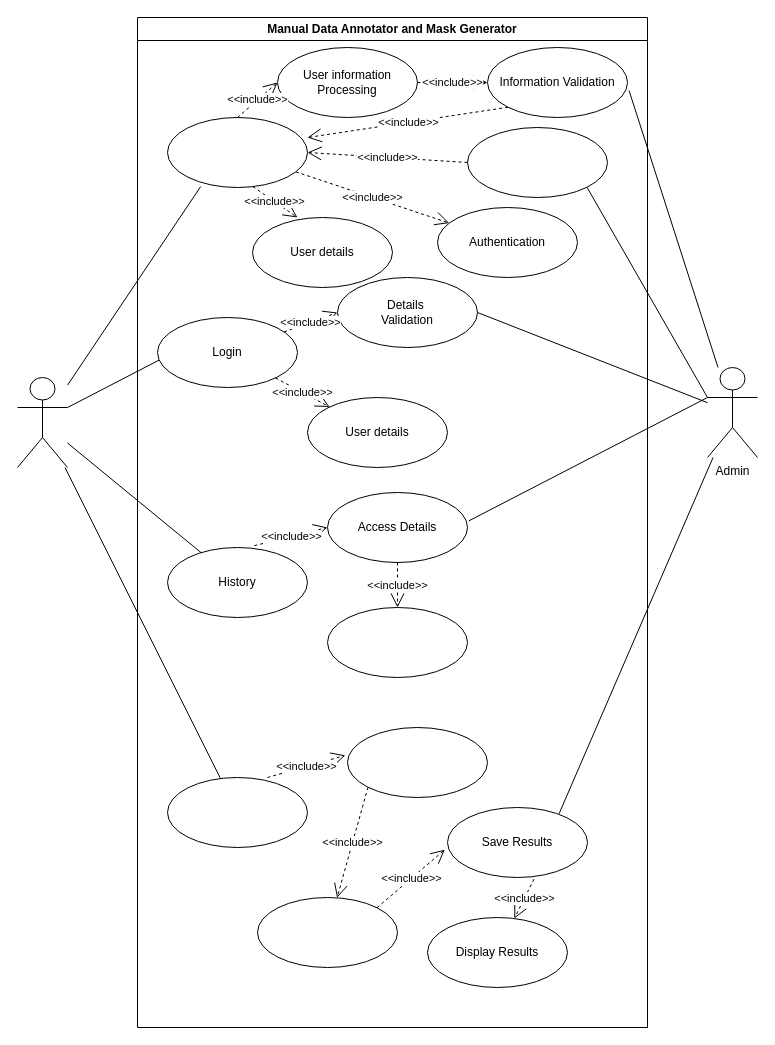
Image size: 775x1045. Some labels were removed from this diagram. Each missing label, with the centre of its shape:
"Account Confirmation" goes at (537,162).
"Display history" goes at (397,642).
"Features" goes at (237,812).
"Generate Results" goes at (327,932).
"Register" goes at (237,152).
"Upload inputs" goes at (417,762).
"User" goes at (42,422).
